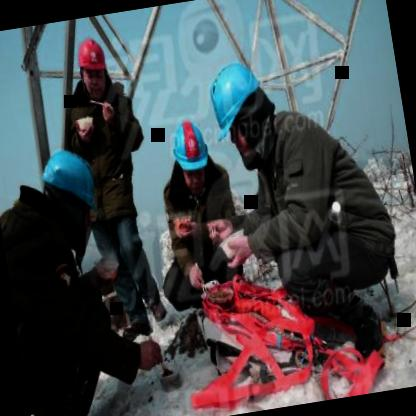helmet: (202, 53, 277, 167), (34, 138, 104, 244), (172, 114, 212, 196), (72, 30, 114, 102)
